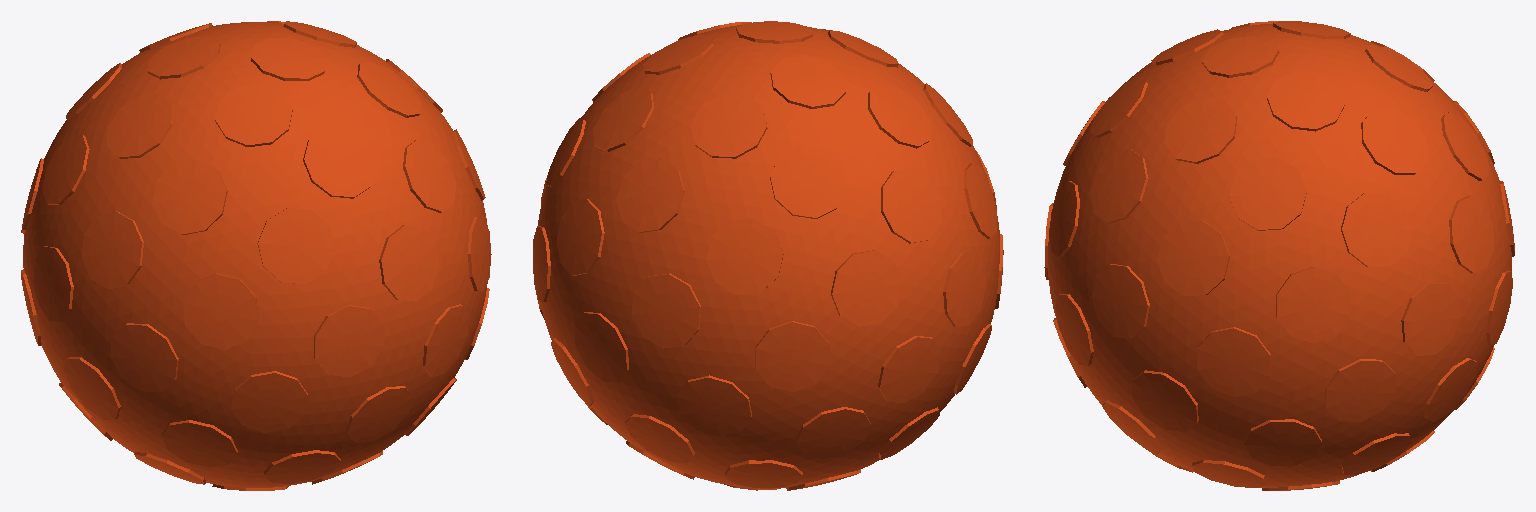
The robot description file, URDF, robot "cb_spikyball_spiky_lw2":
<?xml version="1.0"?>
<!-- A22 textured ball (dome, 60 features, h 0.2 mm), outer R 24.0 mm, 30.0 g. Generated by FoundationTouch tools/contactbench/spikyball_assets.py (A22) -->
<robot name="cb_spikyball_spiky_lw2">
  <material name="c"><color rgba="0.85 0.35 0.15 1.0"/></material>
  <link name="object">
    <visual><origin xyz="0 0 0" rpy="0 0 0"/><geometry><mesh filename="spikyball_spiky_lw2.obj" scale="1 1 1"/></geometry><material name="c"/></visual>
    <collision><origin xyz="0 0 0" rpy="0 0 0"/><geometry><sphere radius="0.023800"/></geometry></collision>
    <collision><origin xyz="0 0 0" rpy="0 0 0"/><geometry><mesh filename="spike_000.obj" scale="1 1 1"/></geometry></collision>
    <collision><origin xyz="0 0 0" rpy="0 0 0"/><geometry><mesh filename="spike_001.obj" scale="1 1 1"/></geometry></collision>
    <collision><origin xyz="0 0 0" rpy="0 0 0"/><geometry><mesh filename="spike_002.obj" scale="1 1 1"/></geometry></collision>
    <collision><origin xyz="0 0 0" rpy="0 0 0"/><geometry><mesh filename="spike_003.obj" scale="1 1 1"/></geometry></collision>
    <collision><origin xyz="0 0 0" rpy="0 0 0"/><geometry><mesh filename="spike_004.obj" scale="1 1 1"/></geometry></collision>
    <collision><origin xyz="0 0 0" rpy="0 0 0"/><geometry><mesh filename="spike_005.obj" scale="1 1 1"/></geometry></collision>
    <collision><origin xyz="0 0 0" rpy="0 0 0"/><geometry><mesh filename="spike_006.obj" scale="1 1 1"/></geometry></collision>
    <collision><origin xyz="0 0 0" rpy="0 0 0"/><geometry><mesh filename="spike_007.obj" scale="1 1 1"/></geometry></collision>
    <collision><origin xyz="0 0 0" rpy="0 0 0"/><geometry><mesh filename="spike_008.obj" scale="1 1 1"/></geometry></collision>
    <collision><origin xyz="0 0 0" rpy="0 0 0"/><geometry><mesh filename="spike_009.obj" scale="1 1 1"/></geometry></collision>
    <collision><origin xyz="0 0 0" rpy="0 0 0"/><geometry><mesh filename="spike_010.obj" scale="1 1 1"/></geometry></collision>
    <collision><origin xyz="0 0 0" rpy="0 0 0"/><geometry><mesh filename="spike_011.obj" scale="1 1 1"/></geometry></collision>
    <collision><origin xyz="0 0 0" rpy="0 0 0"/><geometry><mesh filename="spike_012.obj" scale="1 1 1"/></geometry></collision>
    <collision><origin xyz="0 0 0" rpy="0 0 0"/><geometry><mesh filename="spike_013.obj" scale="1 1 1"/></geometry></collision>
    <collision><origin xyz="0 0 0" rpy="0 0 0"/><geometry><mesh filename="spike_014.obj" scale="1 1 1"/></geometry></collision>
    <collision><origin xyz="0 0 0" rpy="0 0 0"/><geometry><mesh filename="spike_015.obj" scale="1 1 1"/></geometry></collision>
    <collision><origin xyz="0 0 0" rpy="0 0 0"/><geometry><mesh filename="spike_016.obj" scale="1 1 1"/></geometry></collision>
    <collision><origin xyz="0 0 0" rpy="0 0 0"/><geometry><mesh filename="spike_017.obj" scale="1 1 1"/></geometry></collision>
    <collision><origin xyz="0 0 0" rpy="0 0 0"/><geometry><mesh filename="spike_018.obj" scale="1 1 1"/></geometry></collision>
    <collision><origin xyz="0 0 0" rpy="0 0 0"/><geometry><mesh filename="spike_019.obj" scale="1 1 1"/></geometry></collision>
    <collision><origin xyz="0 0 0" rpy="0 0 0"/><geometry><mesh filename="spike_020.obj" scale="1 1 1"/></geometry></collision>
    <collision><origin xyz="0 0 0" rpy="0 0 0"/><geometry><mesh filename="spike_021.obj" scale="1 1 1"/></geometry></collision>
    <collision><origin xyz="0 0 0" rpy="0 0 0"/><geometry><mesh filename="spike_022.obj" scale="1 1 1"/></geometry></collision>
    <collision><origin xyz="0 0 0" rpy="0 0 0"/><geometry><mesh filename="spike_023.obj" scale="1 1 1"/></geometry></collision>
    <collision><origin xyz="0 0 0" rpy="0 0 0"/><geometry><mesh filename="spike_024.obj" scale="1 1 1"/></geometry></collision>
    <collision><origin xyz="0 0 0" rpy="0 0 0"/><geometry><mesh filename="spike_025.obj" scale="1 1 1"/></geometry></collision>
    <collision><origin xyz="0 0 0" rpy="0 0 0"/><geometry><mesh filename="spike_026.obj" scale="1 1 1"/></geometry></collision>
    <collision><origin xyz="0 0 0" rpy="0 0 0"/><geometry><mesh filename="spike_027.obj" scale="1 1 1"/></geometry></collision>
    <collision><origin xyz="0 0 0" rpy="0 0 0"/><geometry><mesh filename="spike_028.obj" scale="1 1 1"/></geometry></collision>
    <collision><origin xyz="0 0 0" rpy="0 0 0"/><geometry><mesh filename="spike_029.obj" scale="1 1 1"/></geometry></collision>
    <collision><origin xyz="0 0 0" rpy="0 0 0"/><geometry><mesh filename="spike_030.obj" scale="1 1 1"/></geometry></collision>
    <collision><origin xyz="0 0 0" rpy="0 0 0"/><geometry><mesh filename="spike_031.obj" scale="1 1 1"/></geometry></collision>
    <collision><origin xyz="0 0 0" rpy="0 0 0"/><geometry><mesh filename="spike_032.obj" scale="1 1 1"/></geometry></collision>
    <collision><origin xyz="0 0 0" rpy="0 0 0"/><geometry><mesh filename="spike_033.obj" scale="1 1 1"/></geometry></collision>
    <collision><origin xyz="0 0 0" rpy="0 0 0"/><geometry><mesh filename="spike_034.obj" scale="1 1 1"/></geometry></collision>
    <collision><origin xyz="0 0 0" rpy="0 0 0"/><geometry><mesh filename="spike_035.obj" scale="1 1 1"/></geometry></collision>
    <collision><origin xyz="0 0 0" rpy="0 0 0"/><geometry><mesh filename="spike_036.obj" scale="1 1 1"/></geometry></collision>
    <collision><origin xyz="0 0 0" rpy="0 0 0"/><geometry><mesh filename="spike_037.obj" scale="1 1 1"/></geometry></collision>
    <collision><origin xyz="0 0 0" rpy="0 0 0"/><geometry><mesh filename="spike_038.obj" scale="1 1 1"/></geometry></collision>
    <collision><origin xyz="0 0 0" rpy="0 0 0"/><geometry><mesh filename="spike_039.obj" scale="1 1 1"/></geometry></collision>
    <collision><origin xyz="0 0 0" rpy="0 0 0"/><geometry><mesh filename="spike_040.obj" scale="1 1 1"/></geometry></collision>
    <collision><origin xyz="0 0 0" rpy="0 0 0"/><geometry><mesh filename="spike_041.obj" scale="1 1 1"/></geometry></collision>
    <collision><origin xyz="0 0 0" rpy="0 0 0"/><geometry><mesh filename="spike_042.obj" scale="1 1 1"/></geometry></collision>
    <collision><origin xyz="0 0 0" rpy="0 0 0"/><geometry><mesh filename="spike_043.obj" scale="1 1 1"/></geometry></collision>
    <collision><origin xyz="0 0 0" rpy="0 0 0"/><geometry><mesh filename="spike_044.obj" scale="1 1 1"/></geometry></collision>
    <collision><origin xyz="0 0 0" rpy="0 0 0"/><geometry><mesh filename="spike_045.obj" scale="1 1 1"/></geometry></collision>
    <collision><origin xyz="0 0 0" rpy="0 0 0"/><geometry><mesh filename="spike_046.obj" scale="1 1 1"/></geometry></collision>
    <collision><origin xyz="0 0 0" rpy="0 0 0"/><geometry><mesh filename="spike_047.obj" scale="1 1 1"/></geometry></collision>
    <collision><origin xyz="0 0 0" rpy="0 0 0"/><geometry><mesh filename="spike_048.obj" scale="1 1 1"/></geometry></collision>
    <collision><origin xyz="0 0 0" rpy="0 0 0"/><geometry><mesh filename="spike_049.obj" scale="1 1 1"/></geometry></collision>
    <collision><origin xyz="0 0 0" rpy="0 0 0"/><geometry><mesh filename="spike_050.obj" scale="1 1 1"/></geometry></collision>
    <collision><origin xyz="0 0 0" rpy="0 0 0"/><geometry><mesh filename="spike_051.obj" scale="1 1 1"/></geometry></collision>
    <collision><origin xyz="0 0 0" rpy="0 0 0"/><geometry><mesh filename="spike_052.obj" scale="1 1 1"/></geometry></collision>
    <collision><origin xyz="0 0 0" rpy="0 0 0"/><geometry><mesh filename="spike_053.obj" scale="1 1 1"/></geometry></collision>
    <collision><origin xyz="0 0 0" rpy="0 0 0"/><geometry><mesh filename="spike_054.obj" scale="1 1 1"/></geometry></collision>
    <collision><origin xyz="0 0 0" rpy="0 0 0"/><geometry><mesh filename="spike_055.obj" scale="1 1 1"/></geometry></collision>
    <collision><origin xyz="0 0 0" rpy="0 0 0"/><geometry><mesh filename="spike_056.obj" scale="1 1 1"/></geometry></collision>
    <collision><origin xyz="0 0 0" rpy="0 0 0"/><geometry><mesh filename="spike_057.obj" scale="1 1 1"/></geometry></collision>
    <collision><origin xyz="0 0 0" rpy="0 0 0"/><geometry><mesh filename="spike_058.obj" scale="1 1 1"/></geometry></collision>
    <collision><origin xyz="0 0 0" rpy="0 0 0"/><geometry><mesh filename="spike_059.obj" scale="1 1 1"/></geometry></collision>
    <inertial><mass value="0.030000"/><origin xyz="0 0 0" rpy="0 0 0"/><inertia ixx="6.912000e-06" ixy="0" ixz="0" iyy="6.912000e-06" iyz="0" izz="6.912000e-06"/></inertial>
  </link>
</robot>

--- What the picture shows (computed from the rendered views, not written in the file) ---
Views: 3 orthographic renders of the robot side by side, from view 1: azimuth 30°, elevation 25°; view 2: azimuth 150°, elevation 25°; view 3: azimuth 270°, elevation 25°.
Robot: cb_spikyball_spiky_lw2 — 1 links, 0 joints (none); root link object; default pose: all joints at 0.
Links seen in each view (by area): view 1: object; view 2: object; view 3: object.
Link boxes in pixels (<box>): object: <box>21,21,491,490</box>; object: <box>533,21,1003,490</box>; object: <box>1044,21,1514,490</box>.
Bounding box of the posed robot: 0.0482 × 0.0482 × 0.0482 m (x, y, z).
Meshes: 1 distinct files referenced, 1 mesh visuals loaded (1 OBJ).
